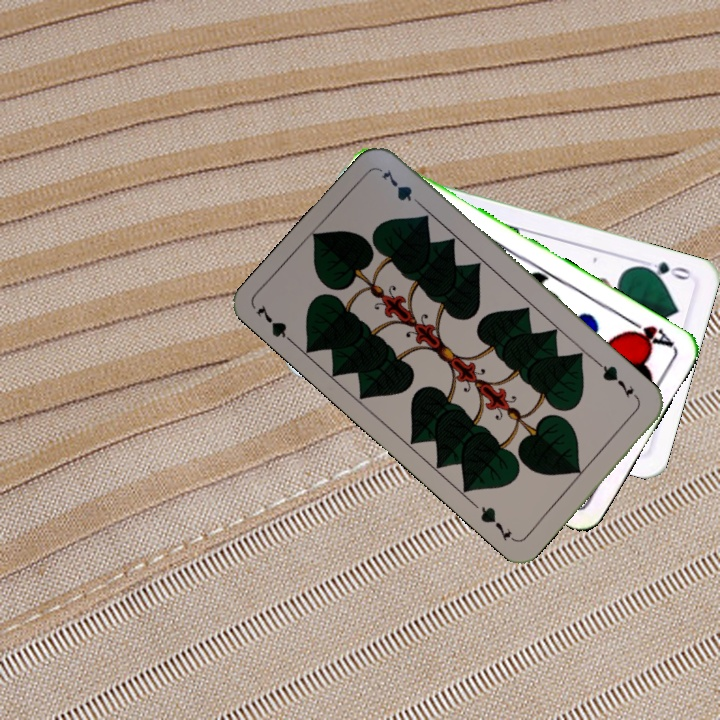G7: (252, 300, 300, 350), (594, 359, 642, 404)
GO: (635, 257, 693, 283)
HA: (621, 313, 676, 350)
